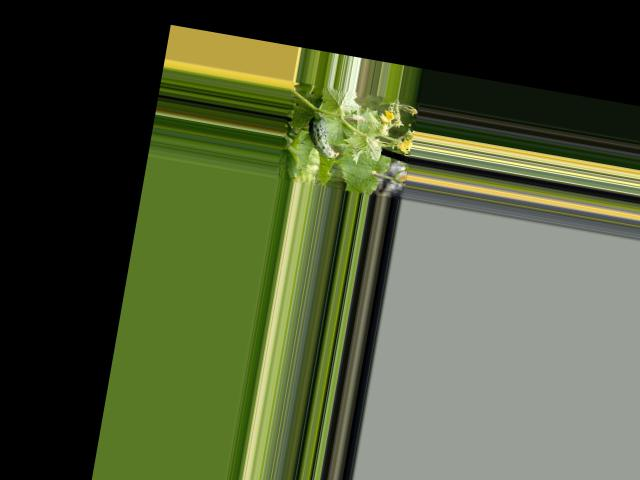cucumber: (304, 113, 345, 160)
